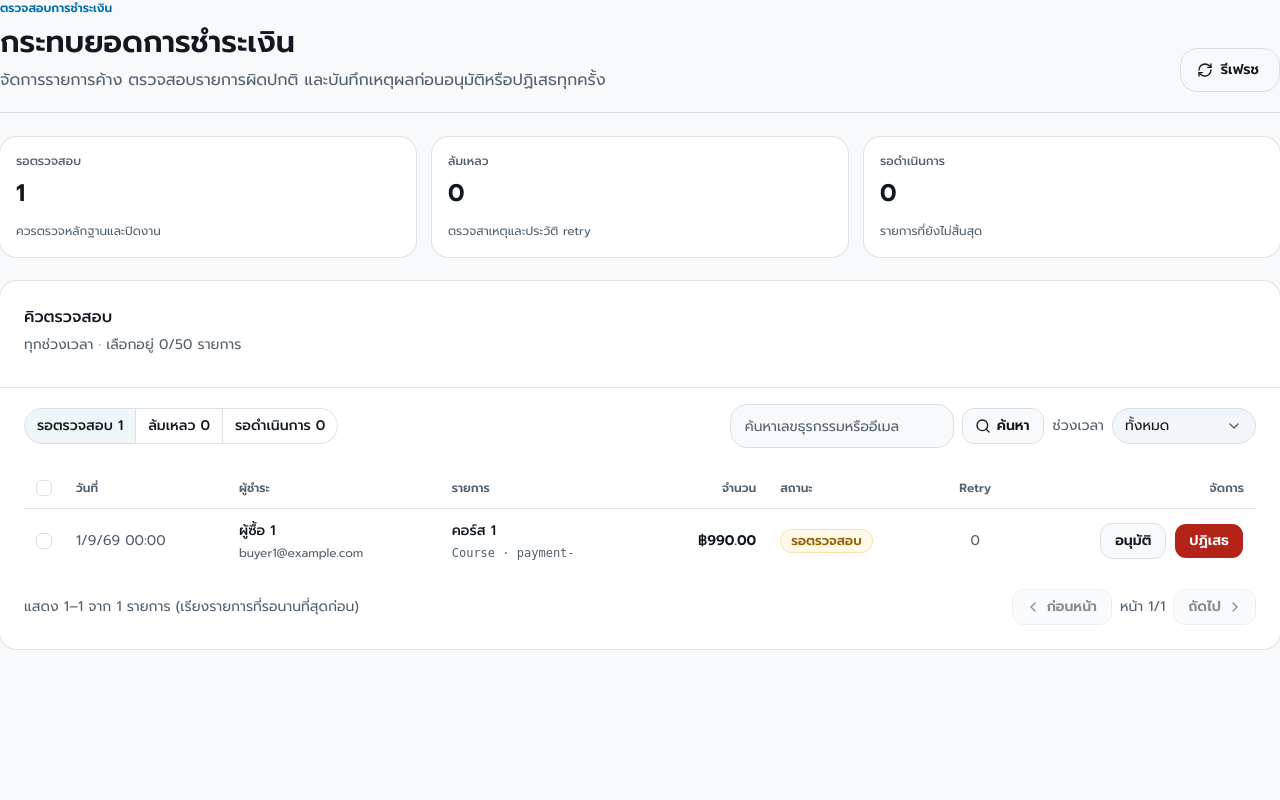
Admin reconciliation queue states › case details in the decision dialog › shows the bank reference when the payment has one
Expected: the text "คอร์ส 1" is shown, x1=452 y1=520 x2=496 y2=540
Click the button "อนุมัติ" at (1133, 540), box x1=1100 y1=522 x2=1166 y2=558
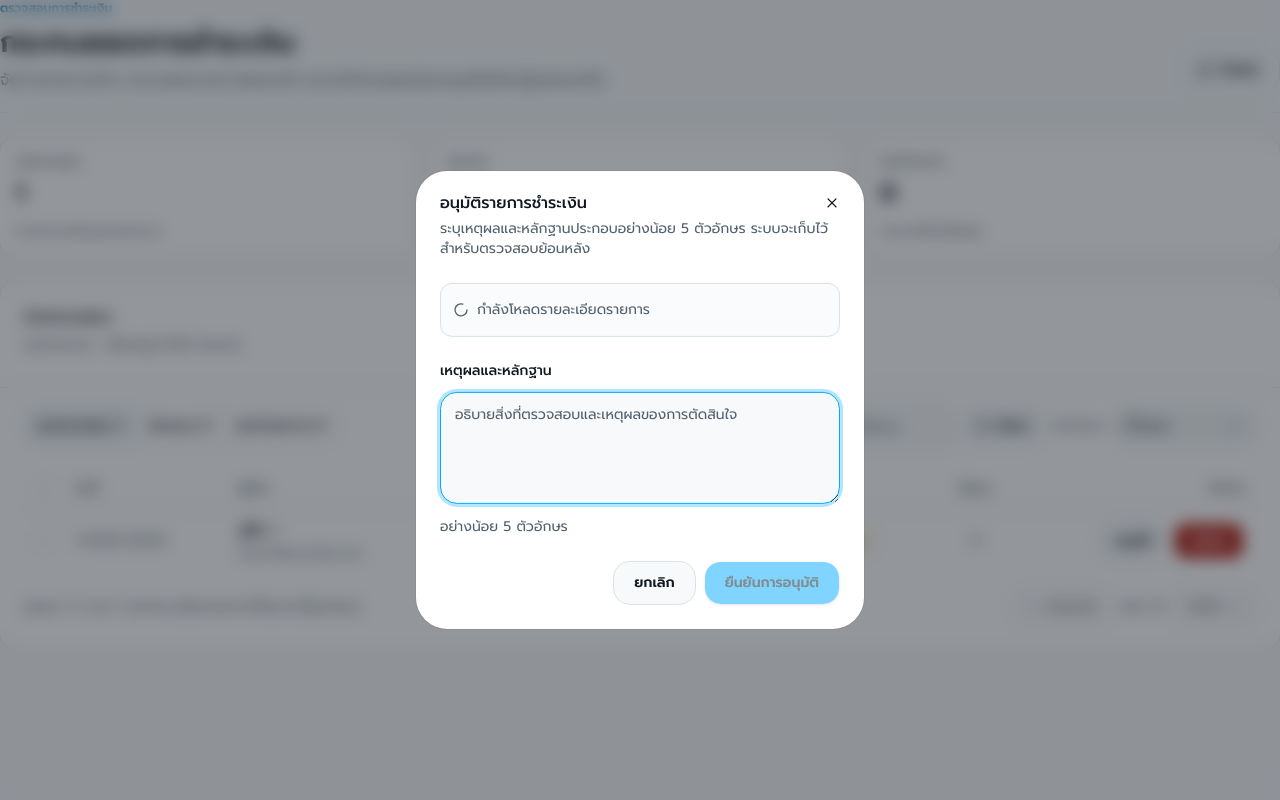
Type "ตรวจรายการเดินบัญชีแล้ว" into the text box labelled "เหตุผลและหลักฐาน" at (640, 448), box x1=440 y1=392 x2=840 y2=504
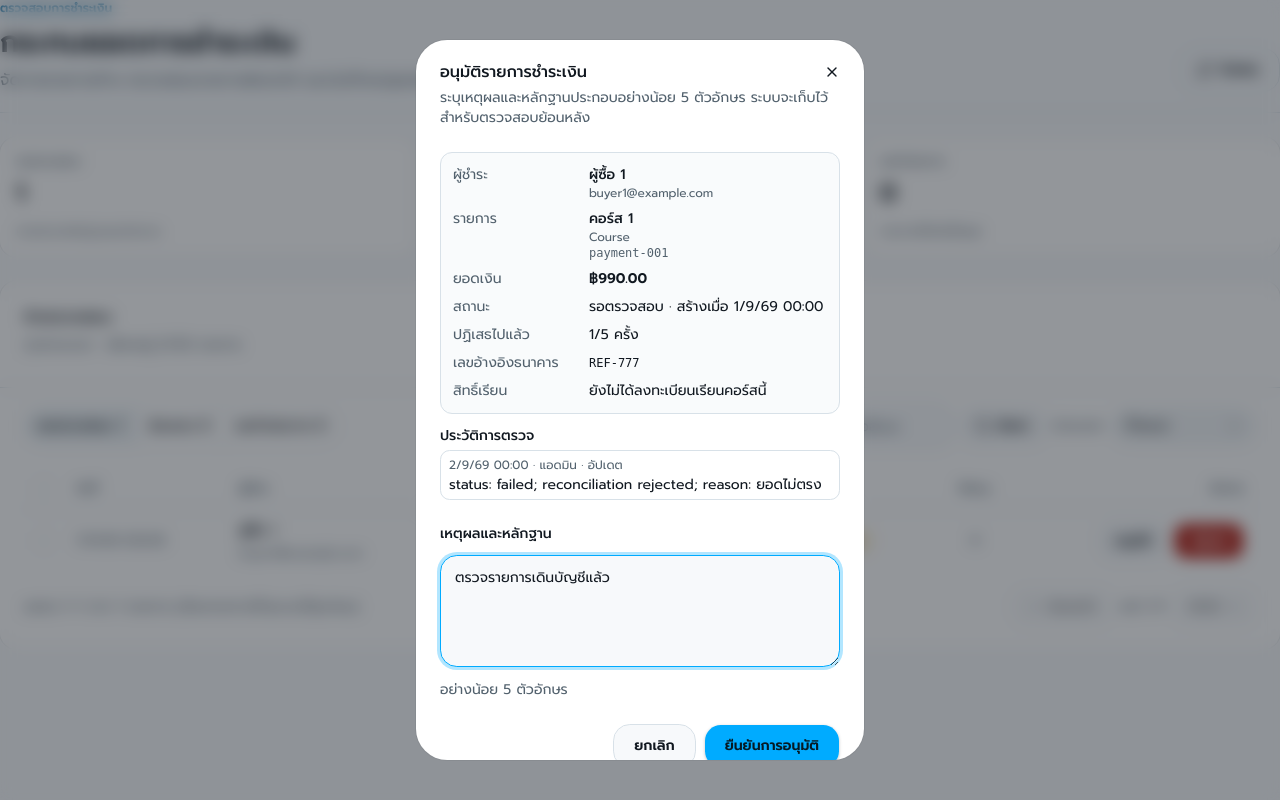
Result: the text "REF-777" is shown at x1=589 y1=356 x2=640 y2=370
